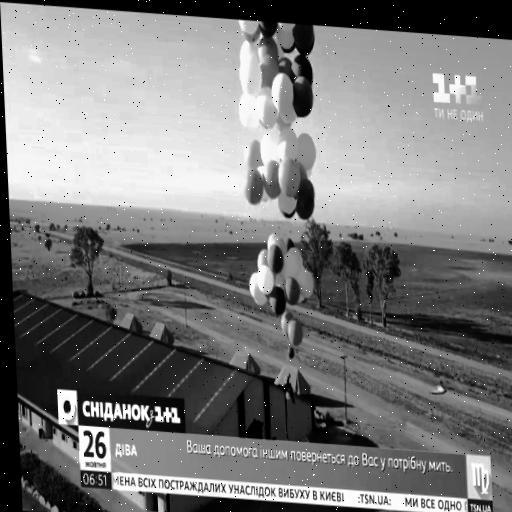balloon: (272, 72, 296, 114), (277, 157, 302, 197), (240, 59, 263, 98), (257, 87, 279, 127), (293, 77, 314, 117), (260, 55, 280, 96), (261, 160, 281, 200), (293, 53, 316, 87), (244, 168, 264, 205), (297, 183, 316, 219), (278, 126, 299, 158), (240, 96, 259, 131), (296, 134, 316, 166), (260, 132, 280, 163), (293, 23, 314, 52), (243, 140, 263, 168), (259, 37, 280, 63), (237, 42, 260, 65), (299, 270, 315, 300), (270, 286, 286, 315), (283, 277, 299, 306), (251, 273, 265, 305), (267, 245, 283, 273), (283, 252, 299, 280), (289, 318, 304, 346), (277, 194, 299, 213), (258, 266, 274, 292), (277, 25, 295, 48), (281, 312, 296, 339), (255, 248, 271, 268), (258, 19, 277, 35), (239, 18, 259, 33), (292, 245, 303, 271), (279, 57, 294, 75), (276, 20, 296, 33), (278, 116, 293, 130), (275, 236, 285, 254), (286, 237, 296, 251), (288, 347, 295, 357)
